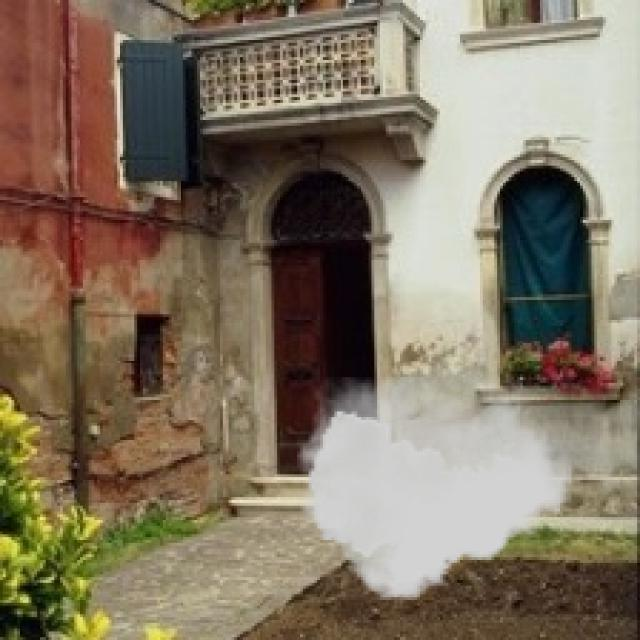smoke: (297, 377, 572, 600)
